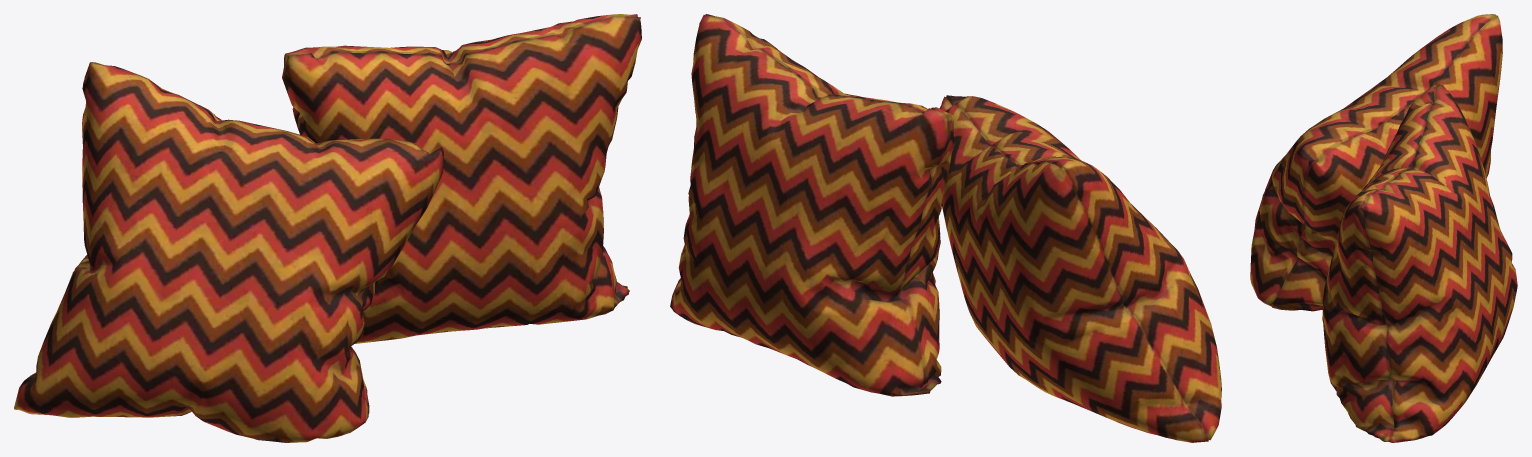
File: throw_pillows_01.glb
3 views of the same model, side by side, from view 1: azimuth 30°, elevation 25°; view 2: azimuth 150°, elevation 25°; view 3: azimuth 270°, elevation 25° (orthographic). The views are drawn at different scales.
Visible parts, largest first — view 1: throw_pillows_01_pillow01, throw_pillows_01_pillow02; view 2: throw_pillows_01_pillow02, throw_pillows_01_pillow01; view 3: throw_pillows_01_pillow02, throw_pillows_01_pillow01.
Part boxes in pixels (<box>): throw_pillows_01_pillow01: <box>14,62,443,442</box>; throw_pillows_01_pillow02: <box>282,14,641,343</box>; throw_pillows_01_pillow02: <box>670,14,953,396</box>; throw_pillows_01_pillow01: <box>939,95,1221,442</box>; throw_pillows_01_pillow02: <box>1322,84,1517,442</box>; throw_pillows_01_pillow01: <box>1250,14,1502,311</box>.
Size of the model in its own units: 0.9401 by 0.4501 by 0.4518.
1 material, 1 textured.
